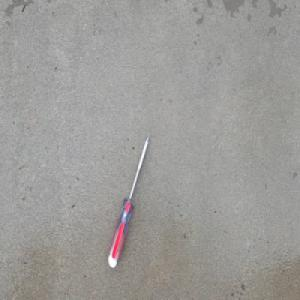Screwdriver: (106, 129, 151, 269)
